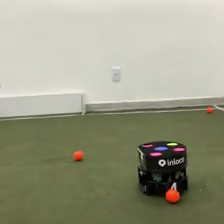ball: (164, 187, 182, 205), (72, 148, 84, 161), (205, 104, 213, 114)
goal: (1, 91, 89, 118)
robot: (135, 137, 191, 198)
